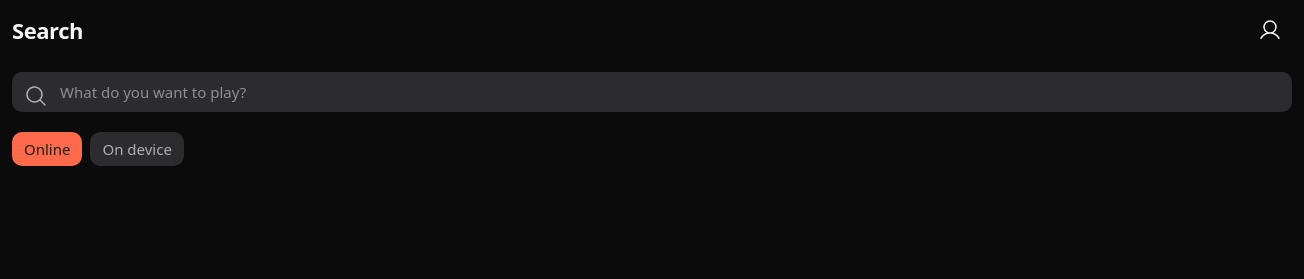
Test case: SearchView on the phone › shows results as the user types
Type "phys" into the dropdown named "Search" at (652, 92), box top-left (12, 72), bottom-right (1292, 112)
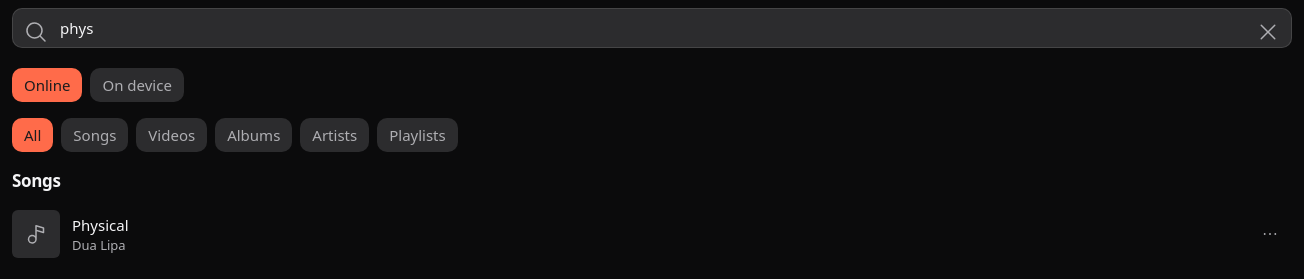
Expected: the button "Physical Dua Lipa" is shown, top-left (12, 206), bottom-right (1248, 262)
